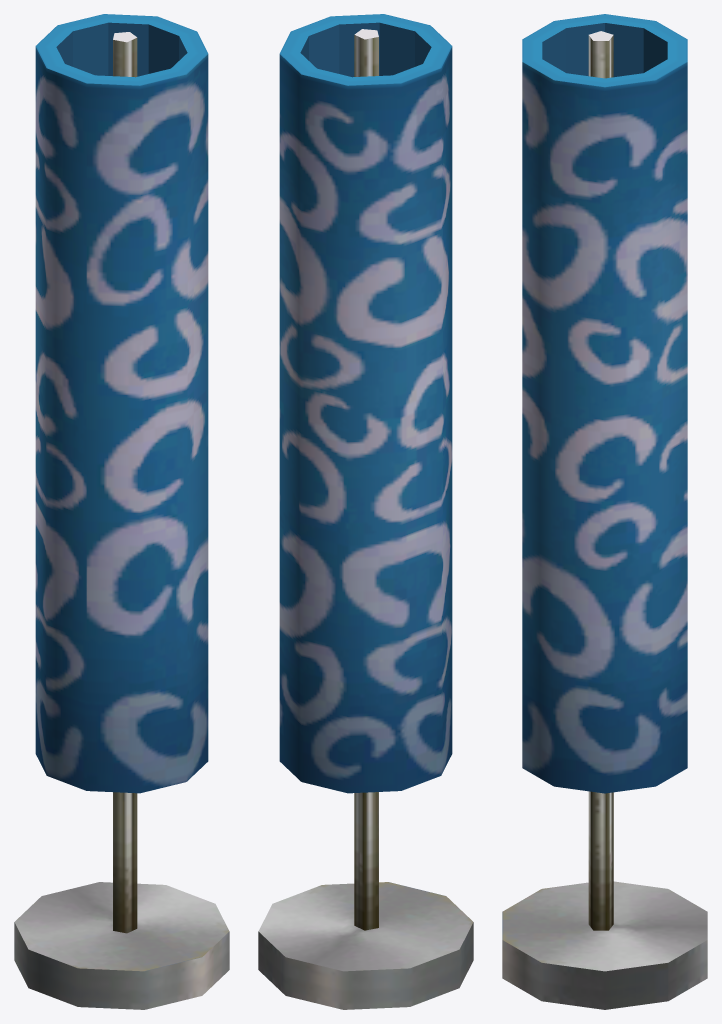
Rendered from furni_0200147_03.FBX.
The picture shows the model from 3 angles, left to right: view 1: azimuth 30°, elevation 25°; view 2: azimuth 150°, elevation 25°; view 3: azimuth 270°, elevation 25°; orthographic projection.
Visible parts, largest first — view 1: furni_0200147_03; view 2: furni_0200147_03; view 3: furni_0200147_03.
Boxes of the visible parts, left/top/right/bottom form: furni_0200147_03: left=14, top=14, right=229, bottom=1009; furni_0200147_03: left=258, top=14, right=473, bottom=1009; furni_0200147_03: left=502, top=14, right=707, bottom=1009.
Bounding box in the file's own units: 25.94 × 123 × 24.67.
